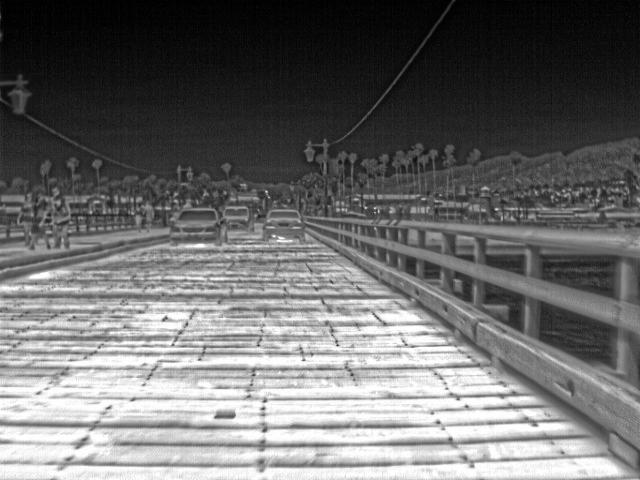car: (166, 206, 227, 246), (261, 208, 305, 240), (219, 204, 253, 230)
person: (40, 186, 74, 246), (15, 190, 45, 252), (142, 200, 156, 232), (133, 204, 146, 234)
